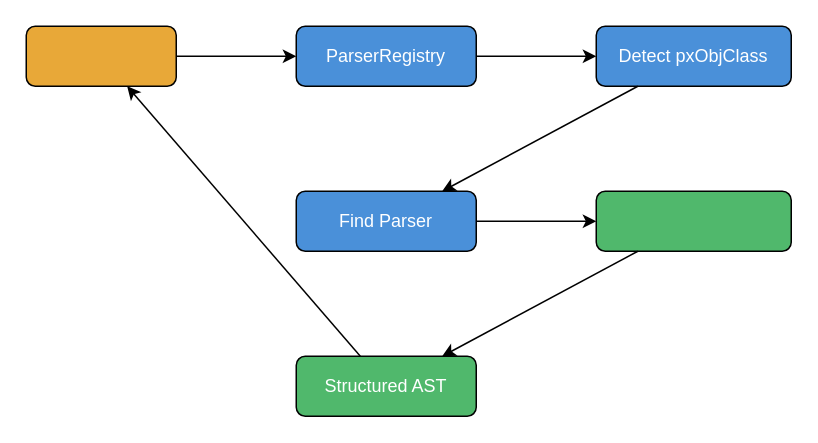
The diagram is 818 pixels wide and 443 high, and some of its shapes have lost their labels. Each missing label, with the box of its shape:
Client: (25, 25, 176, 86)
Parse JSON: (595, 190, 791, 251)
